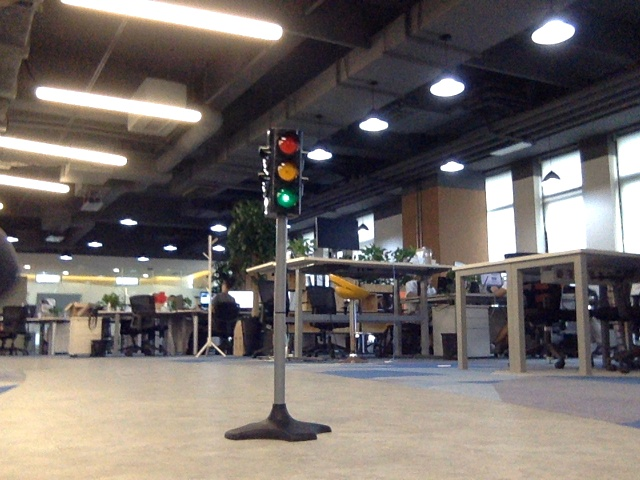green: (271, 132, 297, 208)
